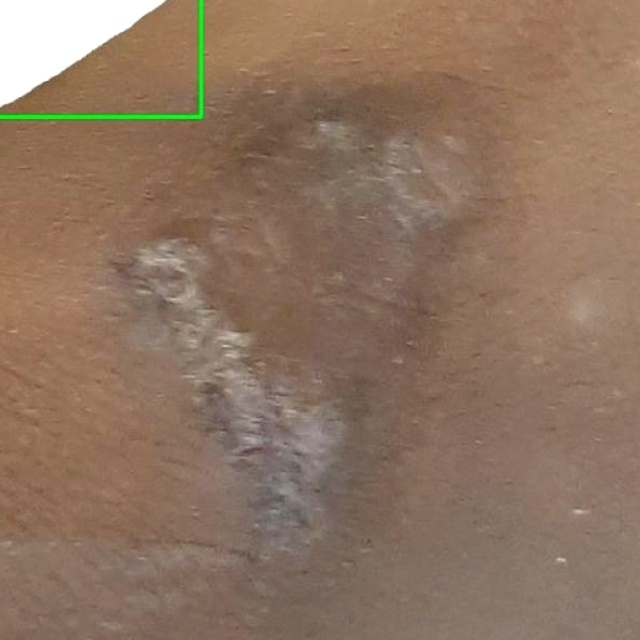Contact Dermatitis: (0, 0, 201, 116)
